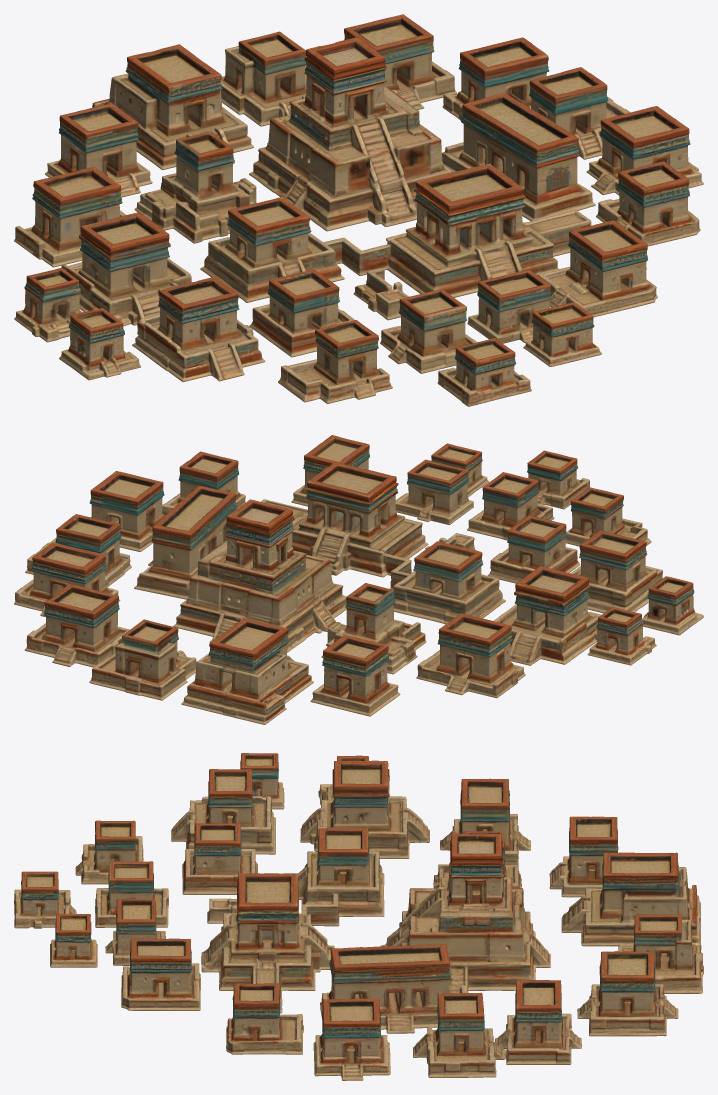
The model's file is Classical Town (Mesoamerican).fbx.
The picture shows the model from 3 angles, top to bottom: view 1: azimuth 30°, elevation 25°; view 2: azimuth 150°, elevation 25°; view 3: azimuth 270°, elevation 25°; orthographic projection. The views are drawn at different scales.
Parts seen in each view (by area): view 1: tripo_node_b6349991; view 2: tripo_node_b6349991; view 3: tripo_node_b6349991.
Boxes of the visible parts, <box> form: tripo_node_b6349991: <box>14,14,703,406</box>; tripo_node_b6349991: <box>14,435,703,724</box>; tripo_node_b6349991: <box>14,753,703,1080</box>.
Size of the model in its own units: 1 by 0.1853 by 0.9974.
